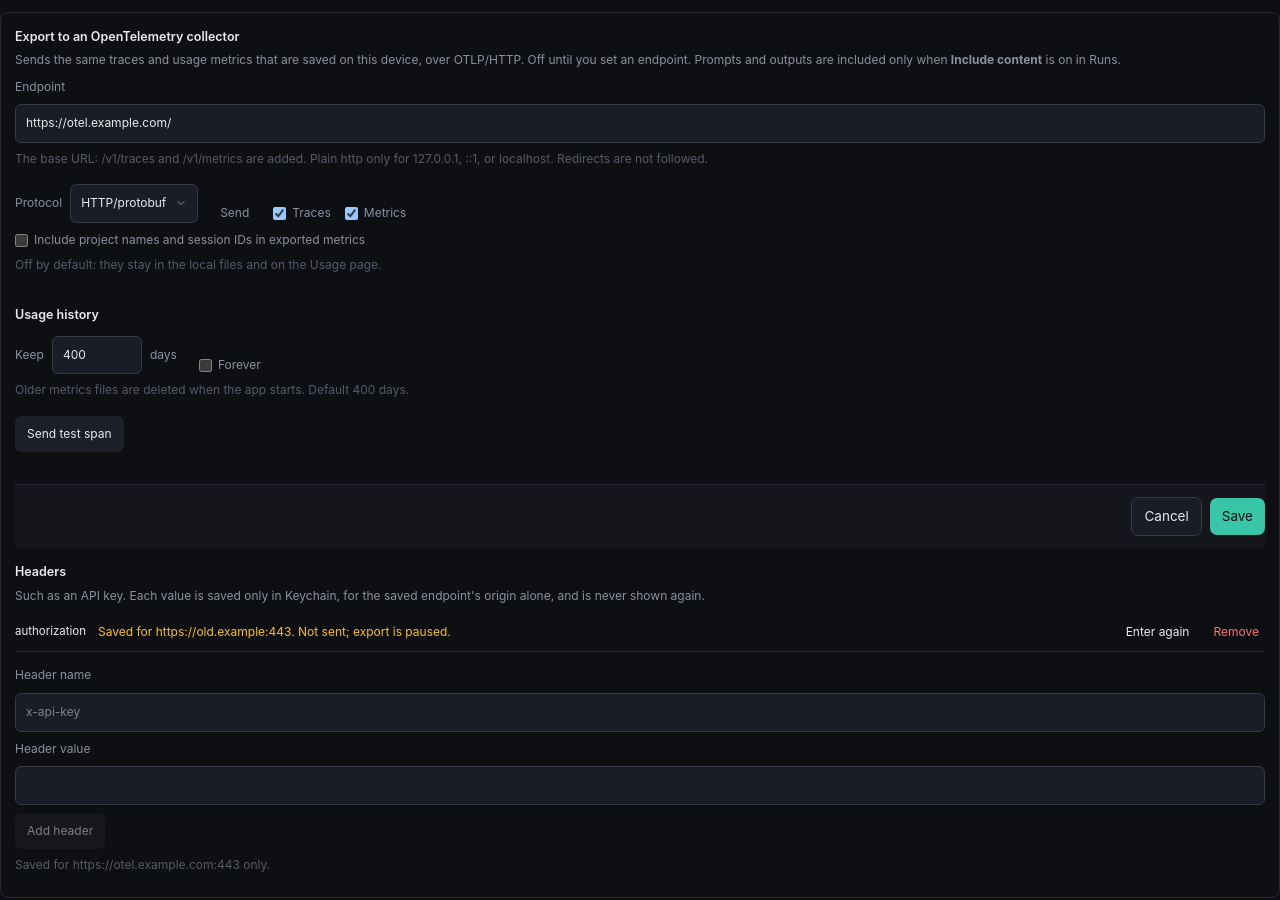
telemetry settings › shows headers saved for another origin and offers to re-enter or remove them
The image size is (1280, 900).
Expected: the text "Saved for https://old.example:443. Not sent; export is paused." is shown, [98, 623, 451, 641]
Step 1. Click the button with aria-label "Enter authorization again" → (1158, 632), box [1120, 619, 1195, 645]
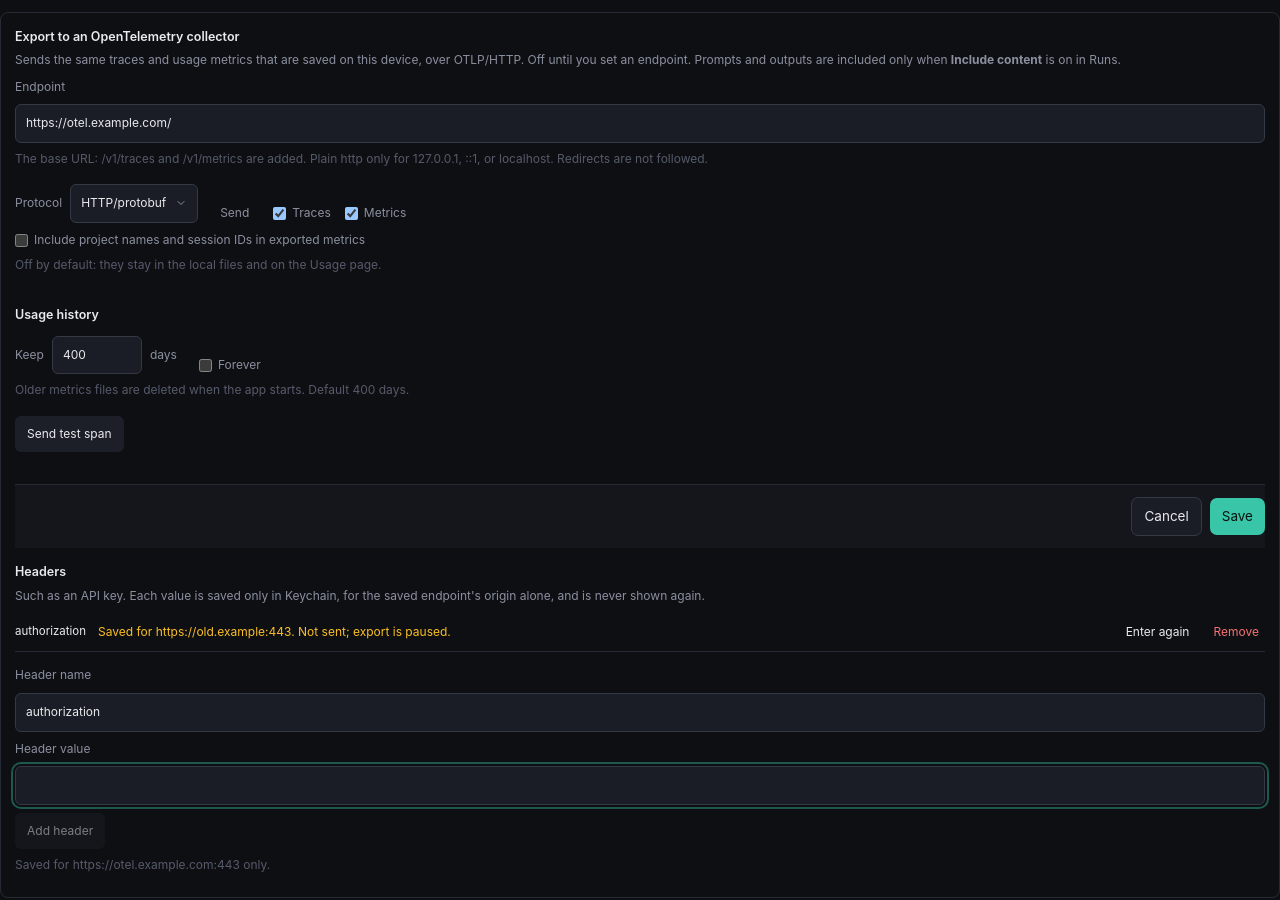
Now the field labelled "Header name" holds "authorization", box [15, 693, 1265, 732]
Step 2. Type "new-value" into the password field labelled "Header value" → (640, 785), box [15, 766, 1265, 805]
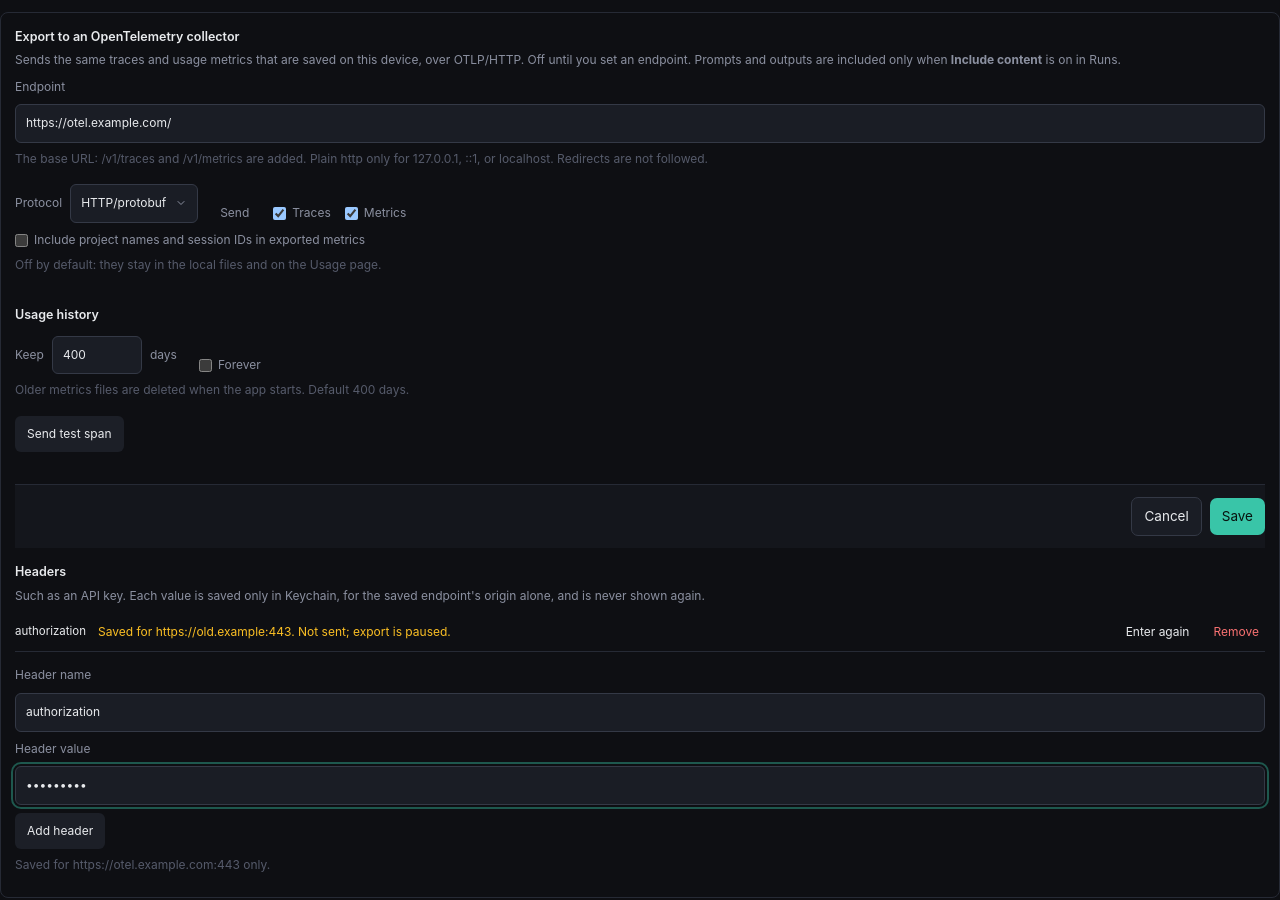
Step 3. Click the button "Add header" → (60, 831), box [15, 813, 105, 849]
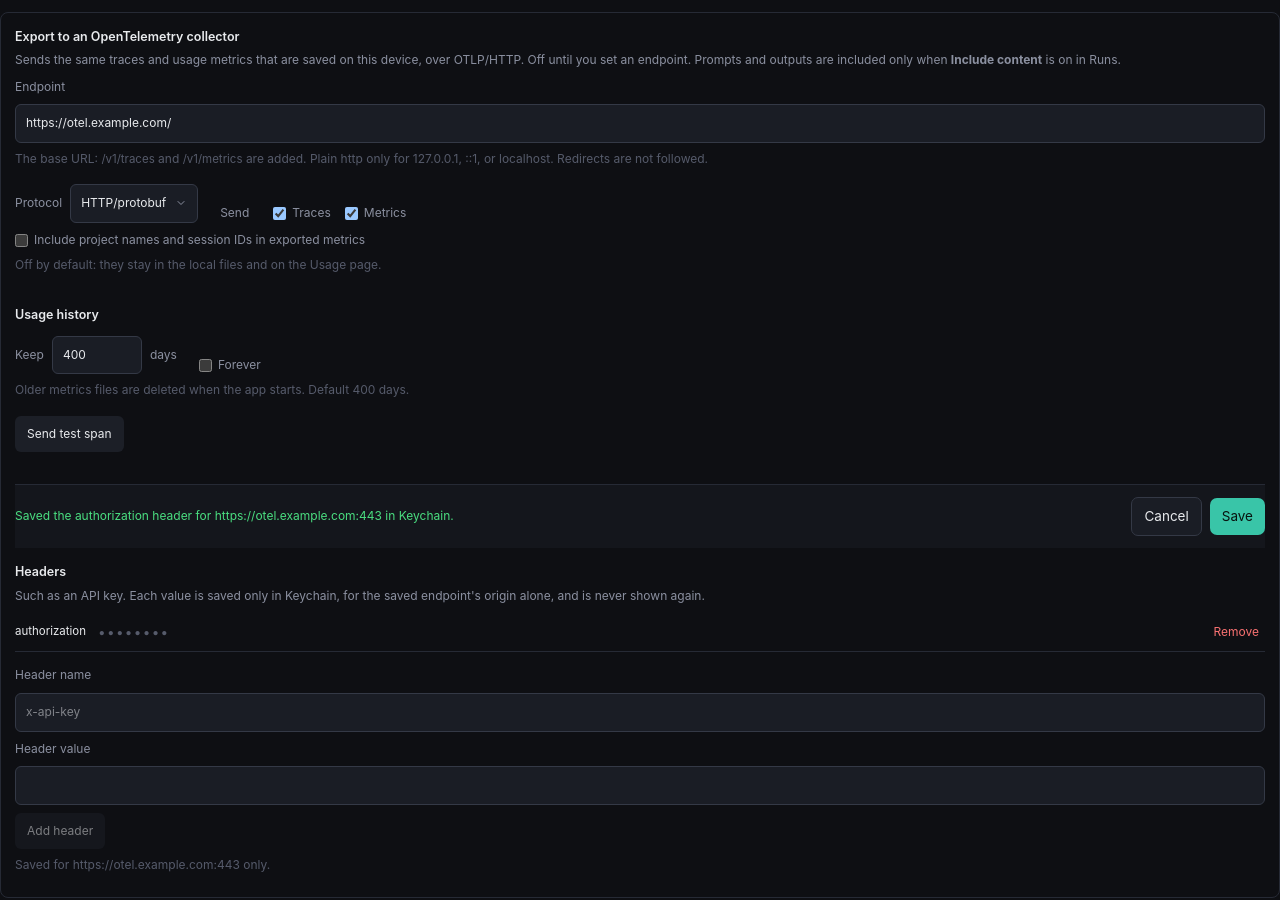
Expected: the text "authorization" is shown, [15, 623, 86, 641]
Now the text "Saved for https://old" is gone
